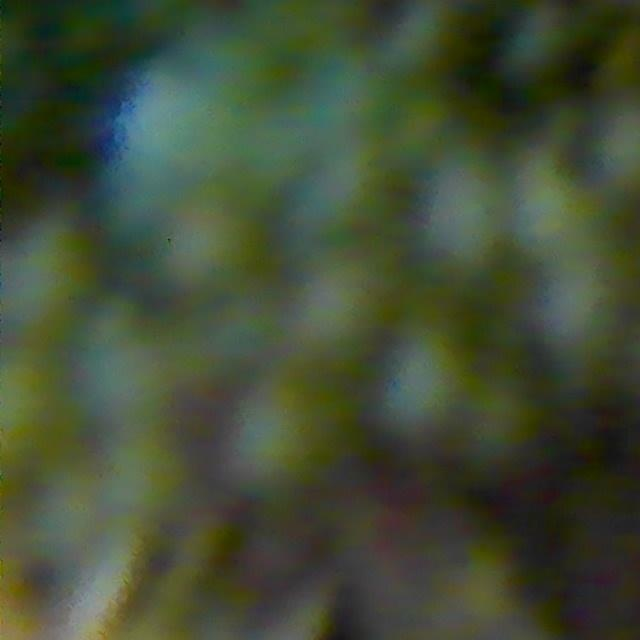SeaGrape: (0, 218, 97, 327), (224, 383, 325, 487), (365, 332, 457, 446), (288, 257, 385, 363), (72, 338, 176, 431), (417, 168, 510, 269), (506, 156, 602, 251), (533, 267, 620, 360), (100, 433, 190, 521), (169, 206, 259, 291), (499, 0, 575, 80)
